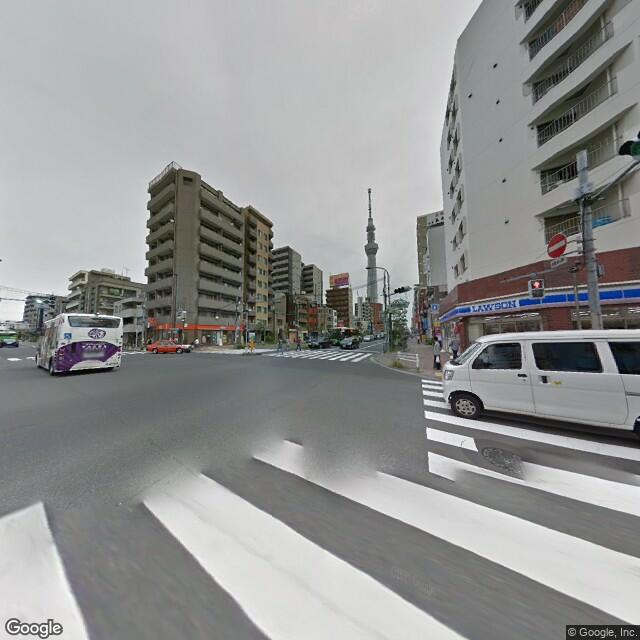lawson: (440, 279, 639, 329)
